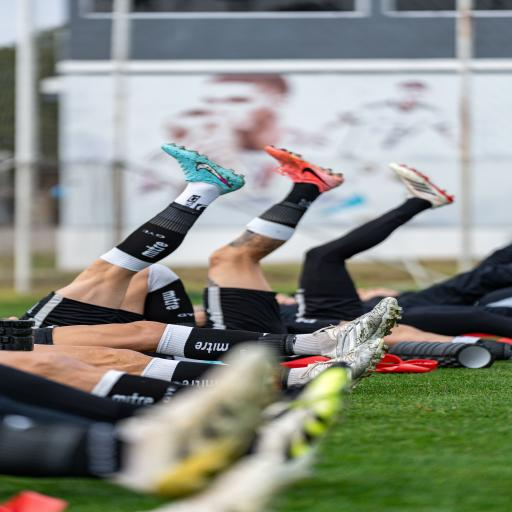shoe: (155, 364, 349, 511), (115, 345, 275, 497), (312, 297, 401, 359), (299, 338, 384, 387), (162, 144, 244, 194), (265, 146, 343, 192), (390, 163, 453, 207)
